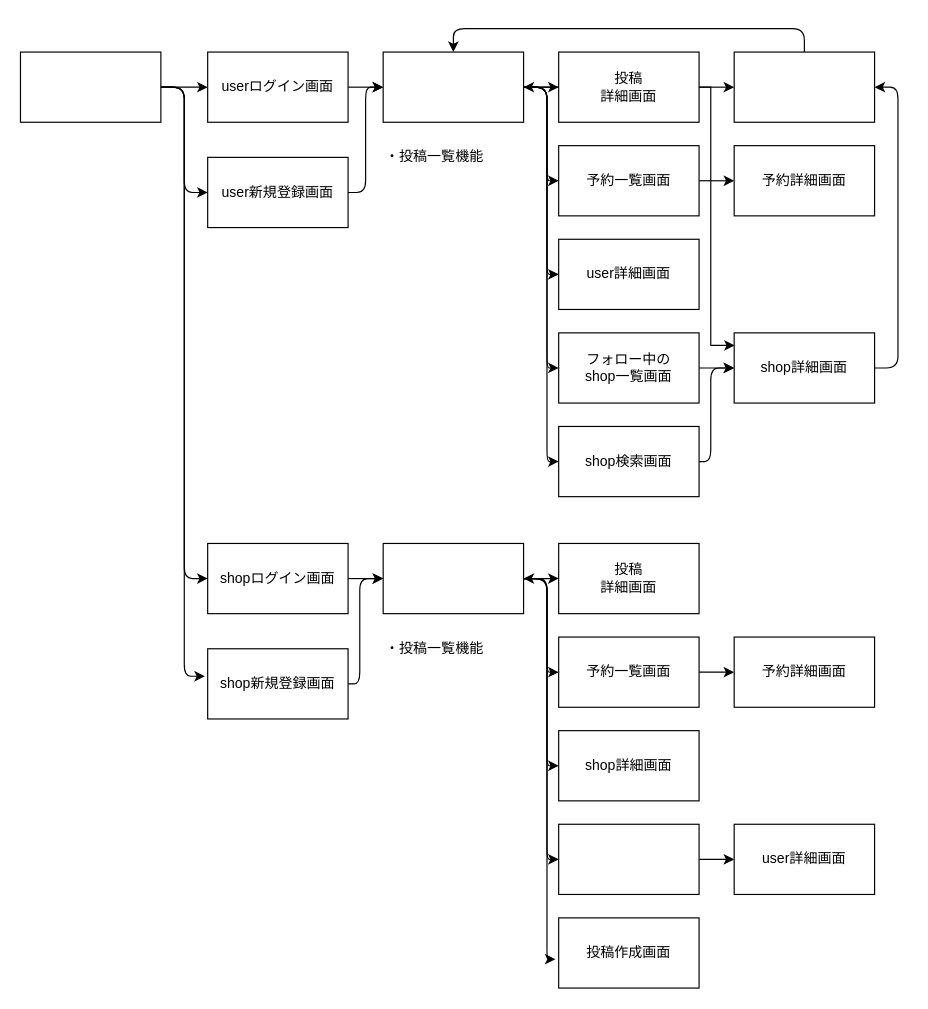
This 928x1009 diagram has some shape labels left out. The centre of each missing label's shape, as x and y in pixels:
"shopトップページ" goes at [453,578].
"user shop ログイン選択画面" goes at [90,86].
"userトップページ" goes at [453,86].
"フォロワー 一覧画面" goes at [628,858].
"予約登録画面" goes at [804,86].
